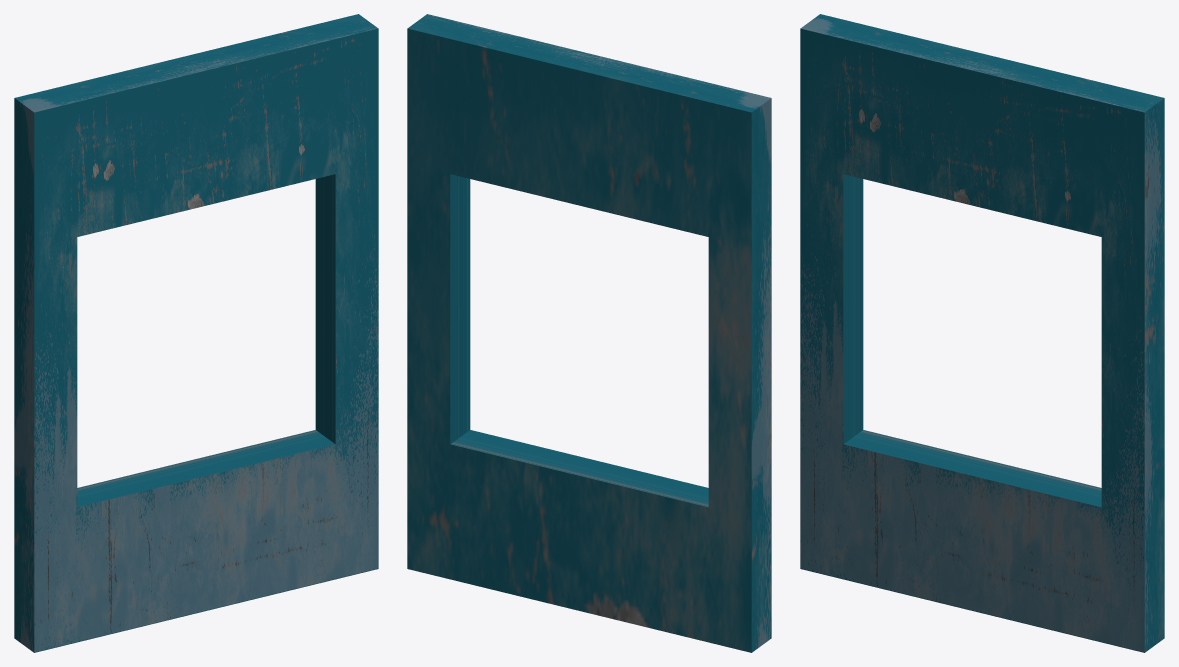
The model's file is window_wall.fbx.
3 renders of one model, left to right at view 1: azimuth 30°, elevation 25°; view 2: azimuth 150°, elevation 25°; view 3: azimuth 330°, elevation 25°, orthographic.
Visible parts, largest first — view 1: Cube.002; view 2: Cube.002; view 3: Cube.002.
Part boxes in pixels (x1,y1,x2,y2): Cube.002: (14, 14, 378, 652); Cube.002: (407, 14, 771, 652); Cube.002: (800, 14, 1164, 652).
Bounding box in the file's own units: 400 × 600 × 40.
Materials: 1 (1 with a texture image).
